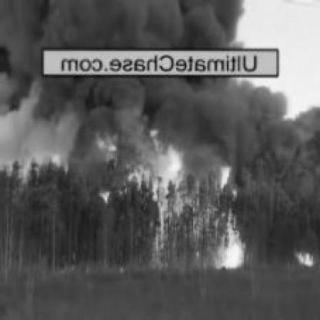Fire: (289, 246, 316, 267)
Smoke: (16, 1, 264, 115)
